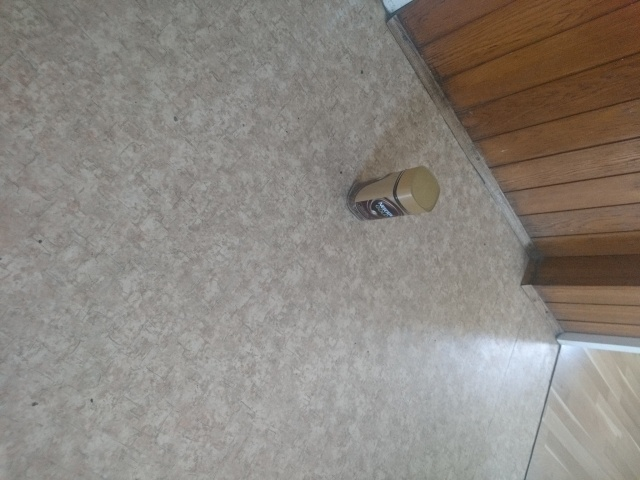Nescafe Gold 225g: (344, 165, 442, 223)
